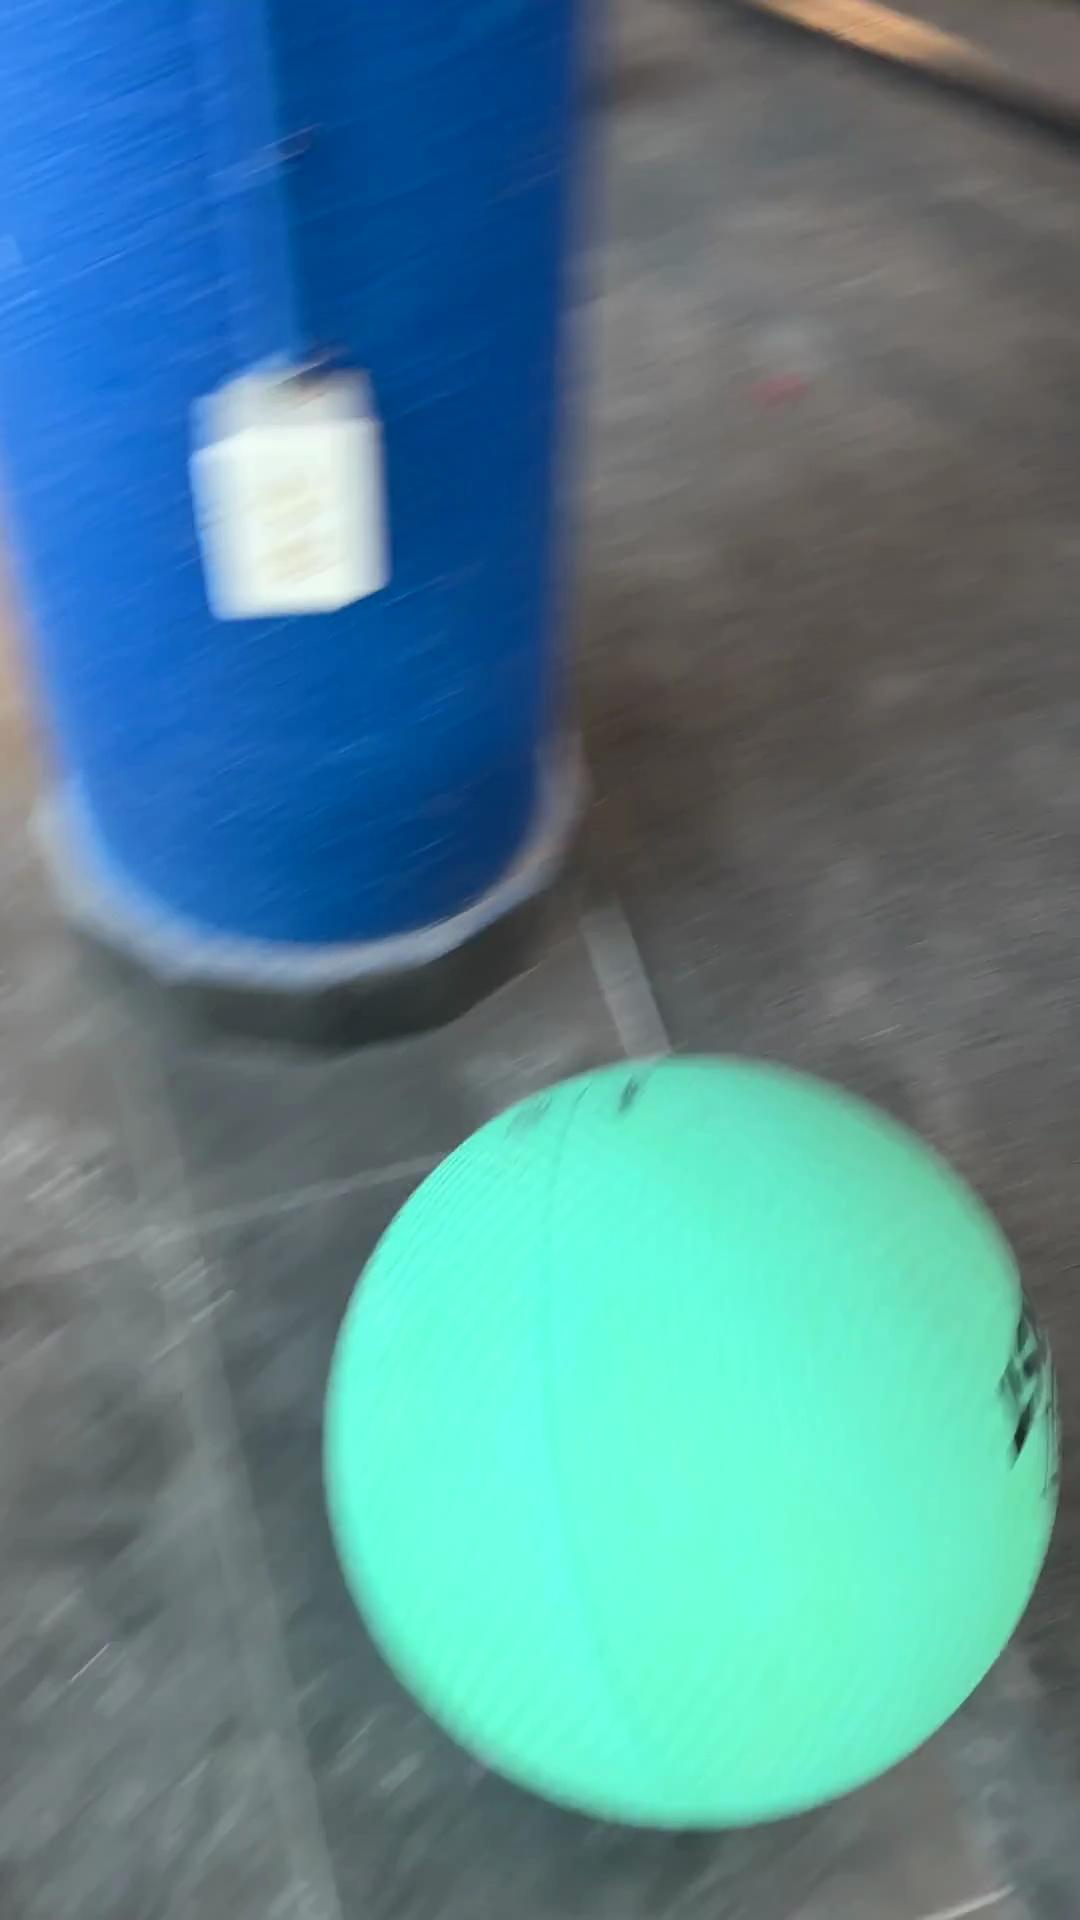ALGAE: (319, 1047, 1063, 1834)
